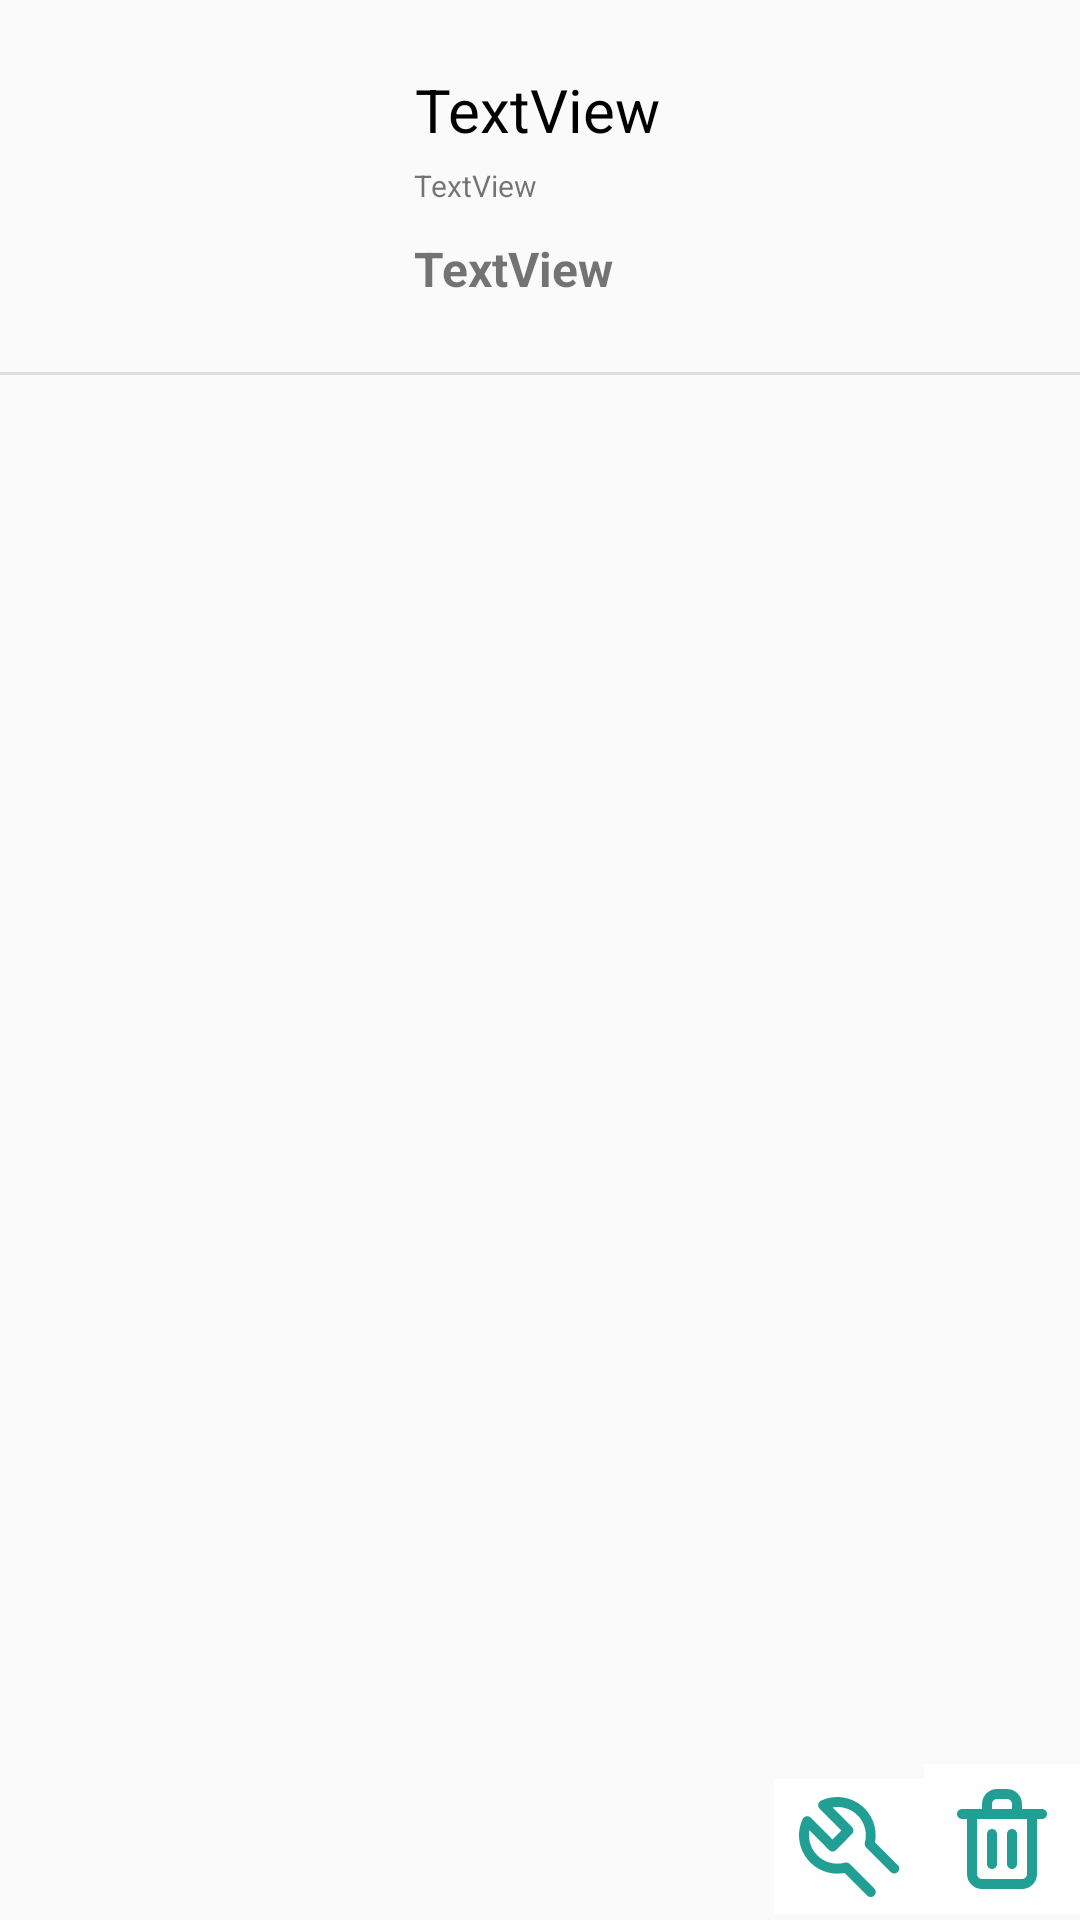

Where to tap for icons on this 1080px x 1920px app screen, as (x,y):
repair: (849,1847)
trash: (1002,1839)
